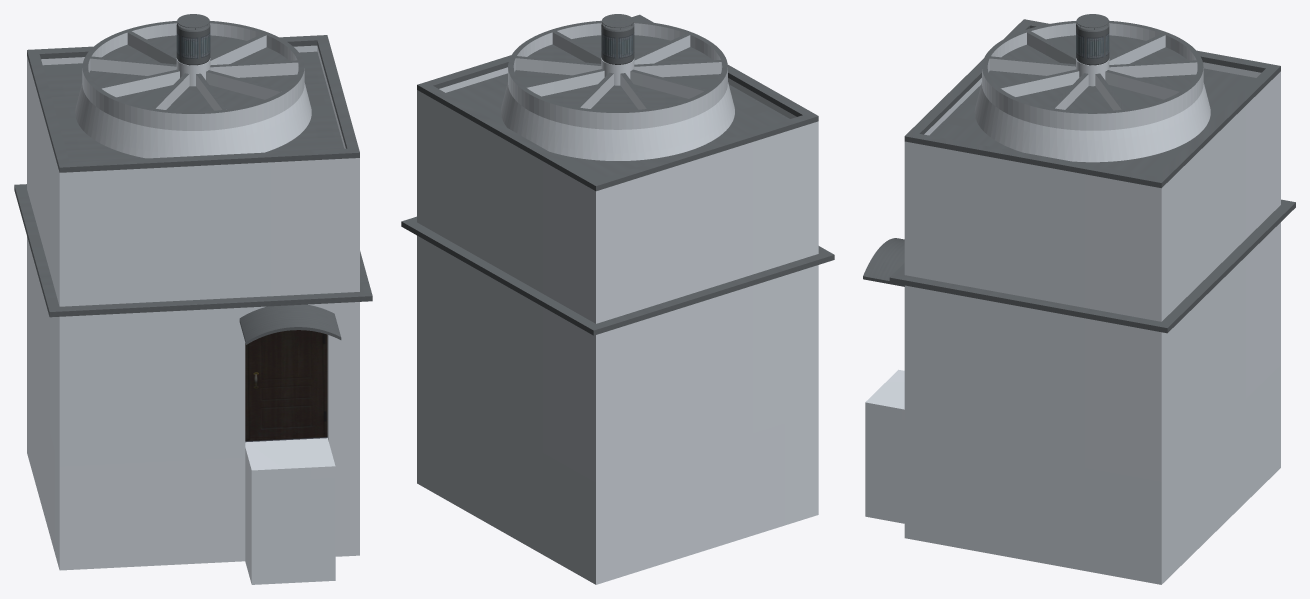
3 renders of one model, left to right at view 1: azimuth 30°, elevation 25°; view 2: azimuth 150°, elevation 25°; view 3: azimuth 270°, elevation 25°, orthographic.
Parts seen in each view (by area): view 1: Group_031, Group_029, Group_034, Group_038, Group_003, Group_036, Group_006, Group_009, Group_004, Group_007, Group_032, Group_035 (+10 smaller); view 2: Group_031, Group_029, Group_003, Group_036, Group_009, Group_004, Group_007, Group_006, Group_035, Group_032, Group_030, Group_017 (+5 smaller); view 3: Group_031, Group_029, Group_003, Group_036, Group_009, Group_004, Group_007, Group_006, Group_034, Group_035, Group_032, Group_033 (+8 smaller).
Part boxes in pixels (x1,y1,x2,y2): Group_031: (27,64,359,466); Group_029: (27,350,359,570); Group_034: (245,459,335,584); Group_038: (245,330,327,442); Group_003: (75,83,311,158); Group_036: (27,35,359,172); Group_006: (43,51,344,162); Group_009: (82,23,304,130); Group_004: (14,184,372,317); Group_007: (89,35,296,111); Group_032: (82,21,304,113); Group_035: (27,45,359,180); Group_031: (417,97,818,482); Group_029: (417,381,818,584); Group_003: (501,82,734,160); Group_036: (417,14,818,191); Group_009: (508,23,727,129); Group_004: (401,216,834,335); Group_007: (514,35,720,110); Group_006: (446,73,789,179); Group_035: (417,67,818,198); Group_032: (508,20,727,112); Group_030: (601,26,634,64); Group_017: (634,62,721,77); Group_031: (904,79,1280,481); Group_029: (904,365,1280,584); Group_003: (974,82,1210,162); Group_036: (904,19,1280,188); Group_009: (982,23,1203,130); Group_004: (889,199,1295,333); Group_007: (988,35,1195,111); Group_006: (929,68,1255,176); Group_034: (865,413,904,523); Group_035: (904,62,1280,195); Group_032: (982,20,1203,113); Group_033: (865,369,904,420).
Size of the model in its own units: 7.34 by 9.35 by 7.61.
6 materials, 4 textured.
